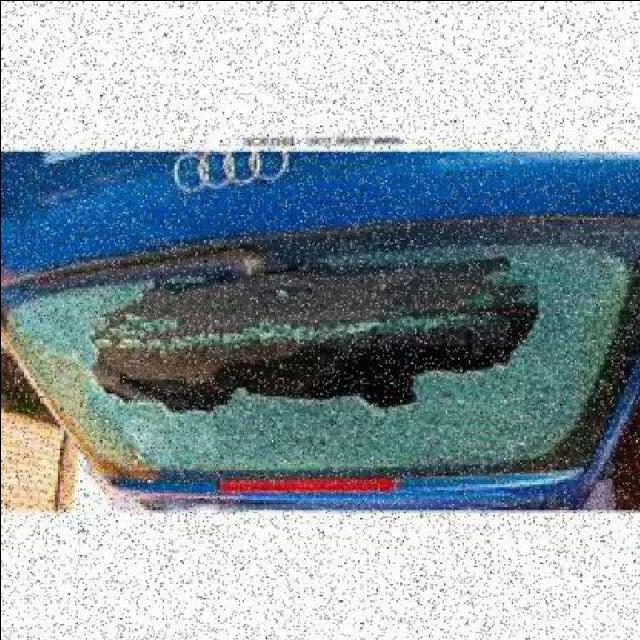Rear-windscreen-Damage: (3, 177, 640, 516)
